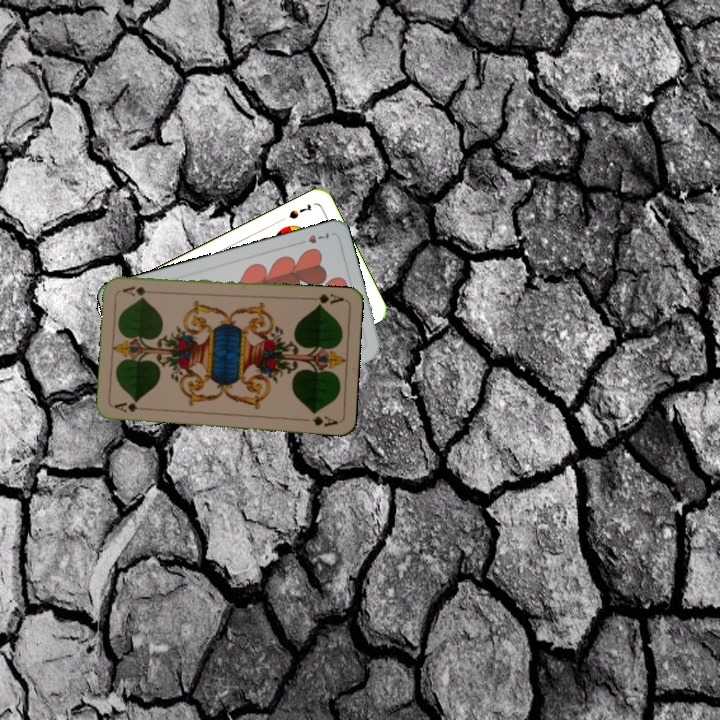GA: (306, 290, 346, 309), (111, 399, 151, 415)
H7: (294, 229, 333, 247)
S7: (285, 200, 314, 221)
